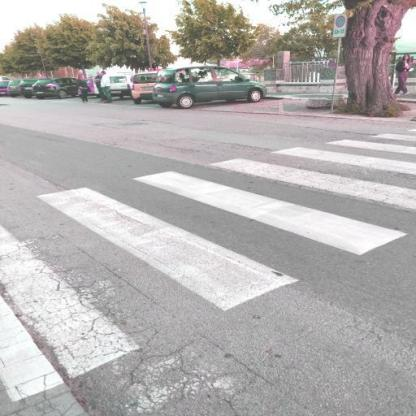crosswalk: (26, 168, 415, 322)
